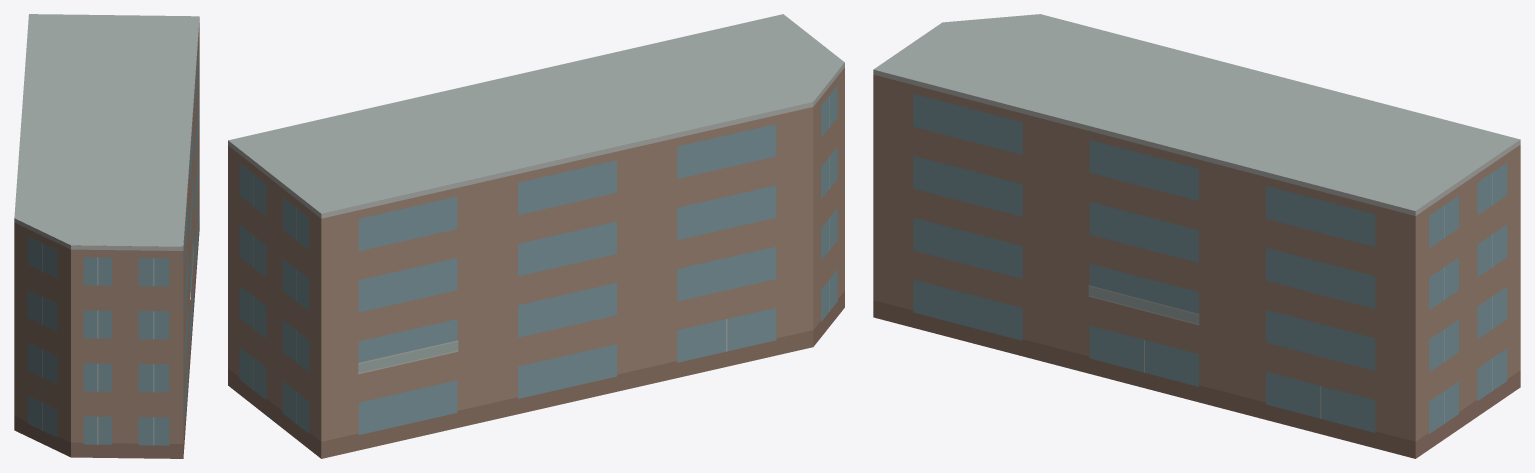
File: residential-9c2e5186-99eb-4214-b9a2-a381a31e9aa5.glb
3 views of the same model, side by side, from view 1: azimuth 30°, elevation 25°; view 2: azimuth 150°, elevation 25°; view 3: azimuth 270°, elevation 25° (orthographic). The views are drawn at different scales.
Parts seen in each view (by area): view 1: residential-9c2e5186-99eb-4214-b9a2-a381a31e9aa5.tmp; view 2: residential-9c2e5186-99eb-4214-b9a2-a381a31e9aa5.tmp; view 3: residential-9c2e5186-99eb-4214-b9a2-a381a31e9aa5.tmp.
Boxes of the visible parts, x1,y1,x2,y2 form: residential-9c2e5186-99eb-4214-b9a2-a381a31e9aa5.tmp: (14,14,199,458); residential-9c2e5186-99eb-4214-b9a2-a381a31e9aa5.tmp: (228,14,844,458); residential-9c2e5186-99eb-4214-b9a2-a381a31e9aa5.tmp: (873,14,1520,458).
Bounding box in the file's own units: 20.83 × 12.2 × 28.9.
